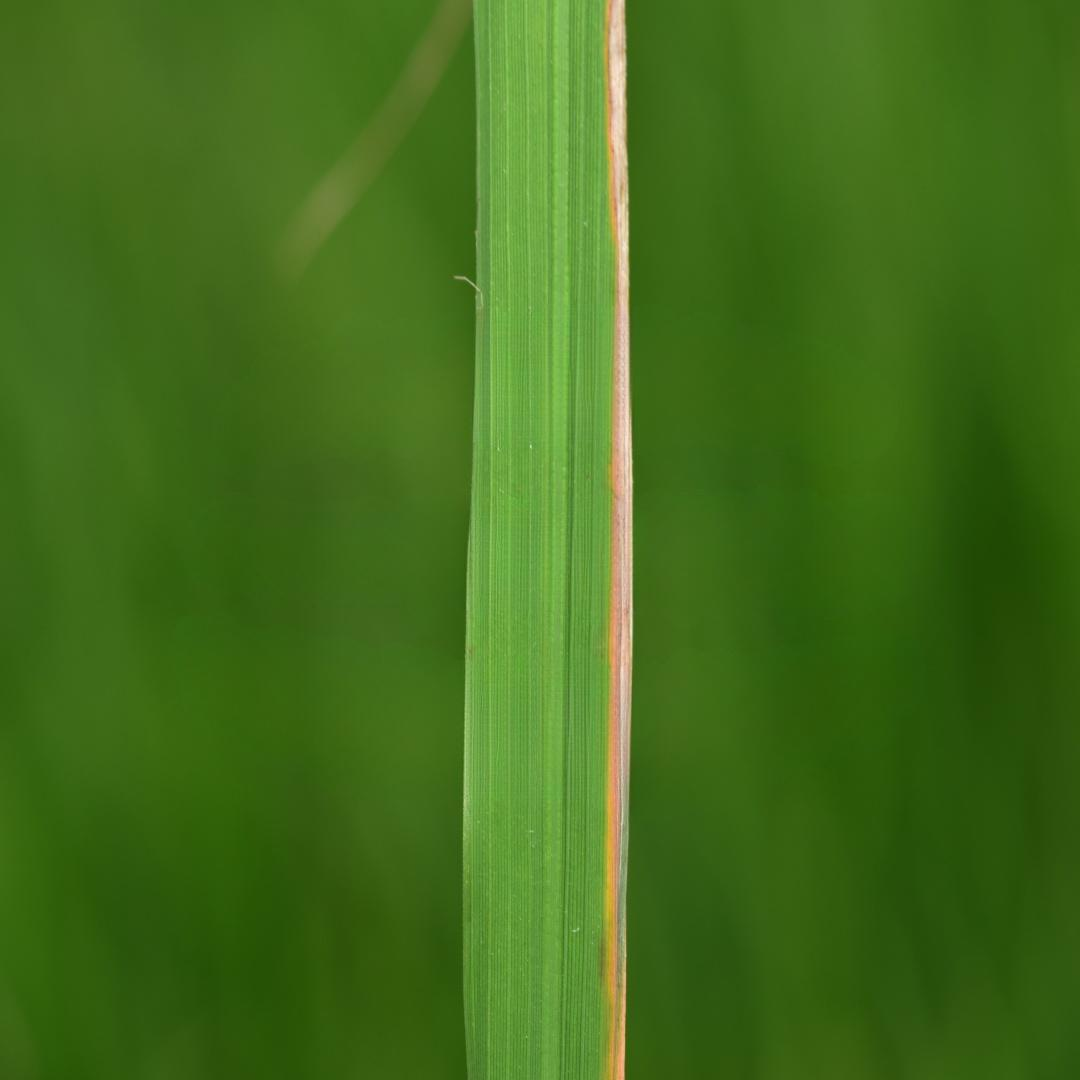BLB: (604, 1, 632, 1079)
LEAF: (463, 0, 632, 1079)
